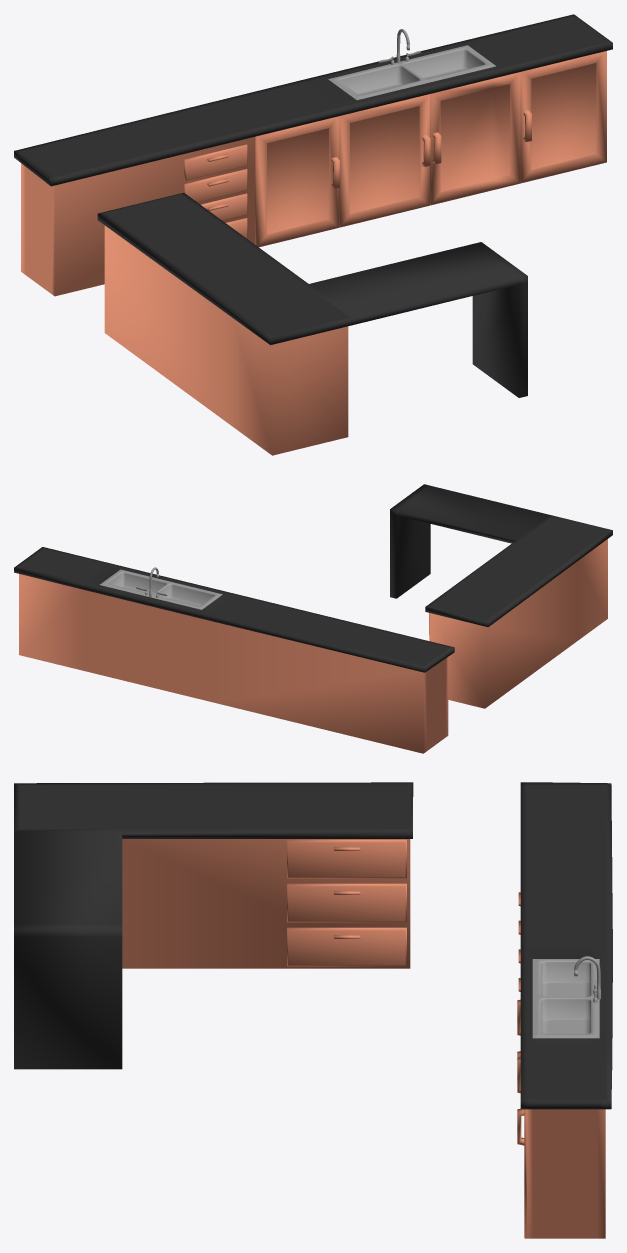
File: kitchen_low.fbx
3 views of the same model, one above another, from view 1: azimuth 30°, elevation 25°; view 2: azimuth 150°, elevation 25°; view 3: azimuth 270°, elevation 25° (orthographic). The views are drawn at different scales.
Parts seen in each view (by area): view 1: Kitchen_low; view 2: Kitchen_low; view 3: Kitchen_low.
Boxes of the visible parts, <box> form: Kitchen_low: <box>14,14,612,455</box>; Kitchen_low: <box>14,484,612,753</box>; Kitchen_low: <box>14,782,612,1238</box>.
Size of the model in its own units: 529 by 141 by 419.
